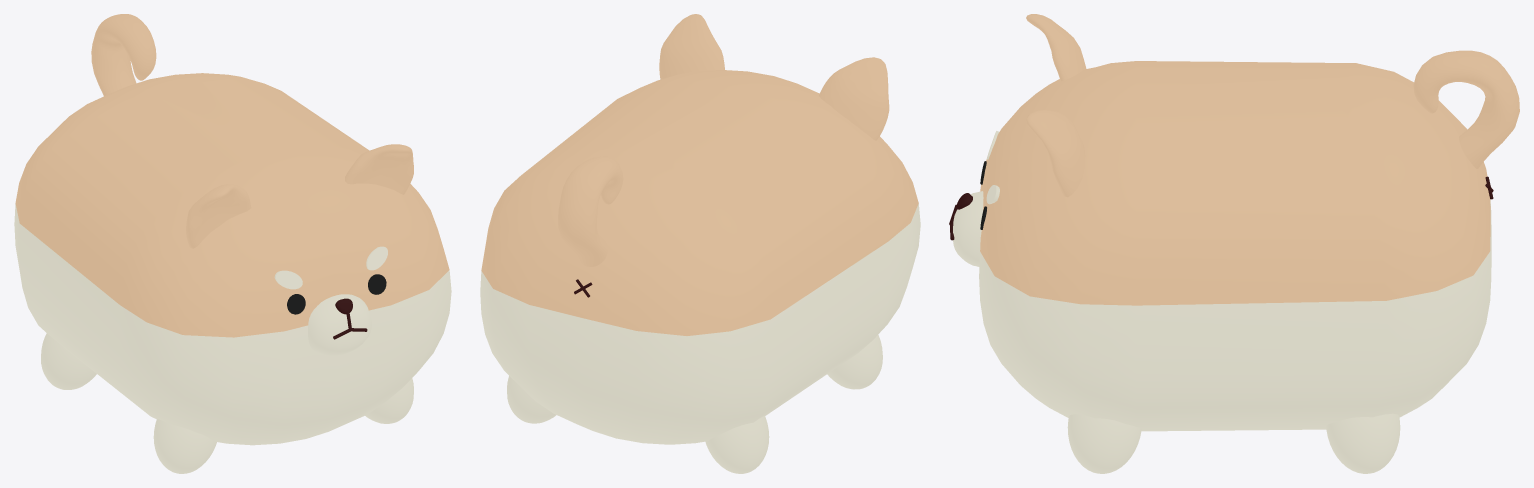
Rendered from cha_24.glb.
3 renders of one model, left to right at view 1: azimuth 30°, elevation 25°; view 2: azimuth 150°, elevation 25°; view 3: azimuth 270°, elevation 25°, orthographic. The views are drawn at different scales.
Parts seen in each view (by area): view 1: pSphere1, pSphere2, pSphere5, pSphere6, pSphere3; view 2: pSphere1, pSphere5, pSphere2, pSphere6; view 3: pSphere1, pSphere2, pSphere6, pSphere5, pSphere3.
Part boxes in pixels (x1,y1,x2,y2): pSphere1: (14, 73, 451, 445); pSphere2: (41, 333, 413, 473); pSphere5: (186, 144, 413, 248); pSphere6: (91, 14, 156, 96); pSphere3: (308, 294, 371, 355); pSphere1: (480, 70, 920, 444); pSphere5: (659, 14, 889, 140); pSphere2: (507, 335, 882, 473); pSphere6: (558, 156, 623, 266); pSphere1: (979, 61, 1491, 431); pSphere2: (1067, 413, 1400, 473); pSphere6: (1413, 50, 1519, 168); pSphere5: (1026, 14, 1086, 197); pSphere3: (953, 191, 983, 266).
Bounding box in the file's own units: 62.91 × 62.61 × 89.89.
